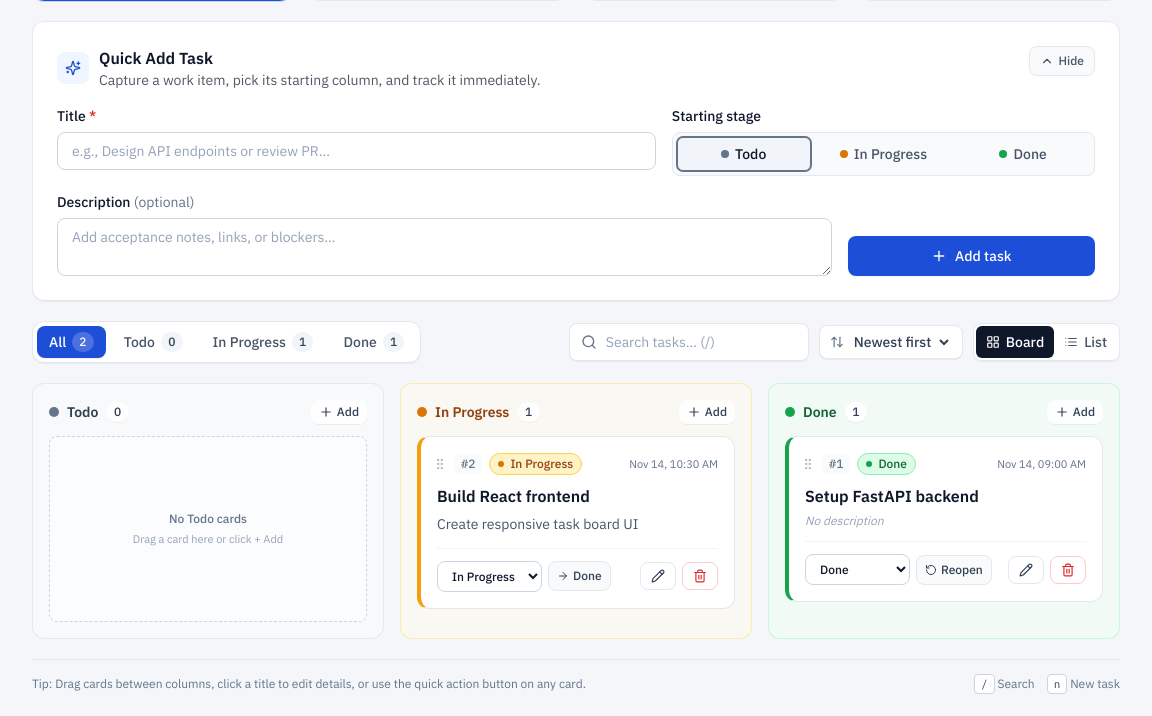
it: Project Tracker App › supports filtering by status, quick status change, and editing via modal (US-03)
This screenshot has width=1152, height=716.
(page scrolled)
Check: the button "Build React frontend" is shown, box [437,485,590,507]
Quick status update
Select "Done" in the dropdown named "Status for Build React frontend" at (490, 576), box [437,561,542,592]
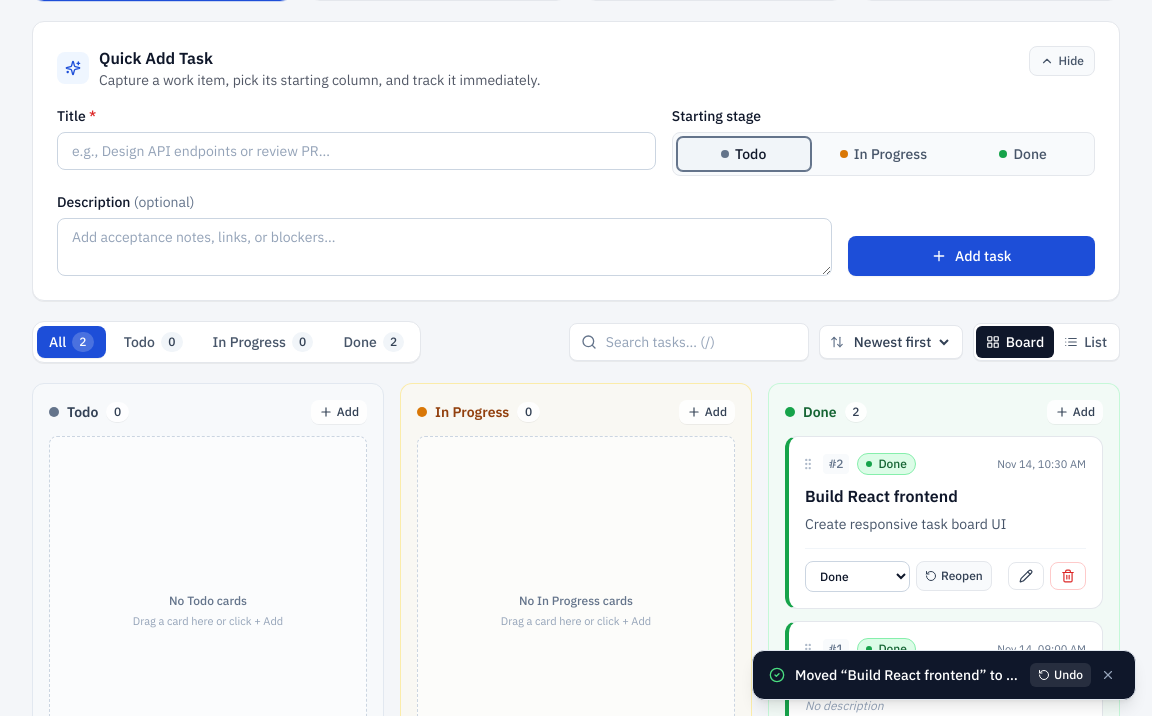
Open Edit modal
Click the button named "Edit Build React frontend" at (1026, 576), box [1008,562,1044,590]
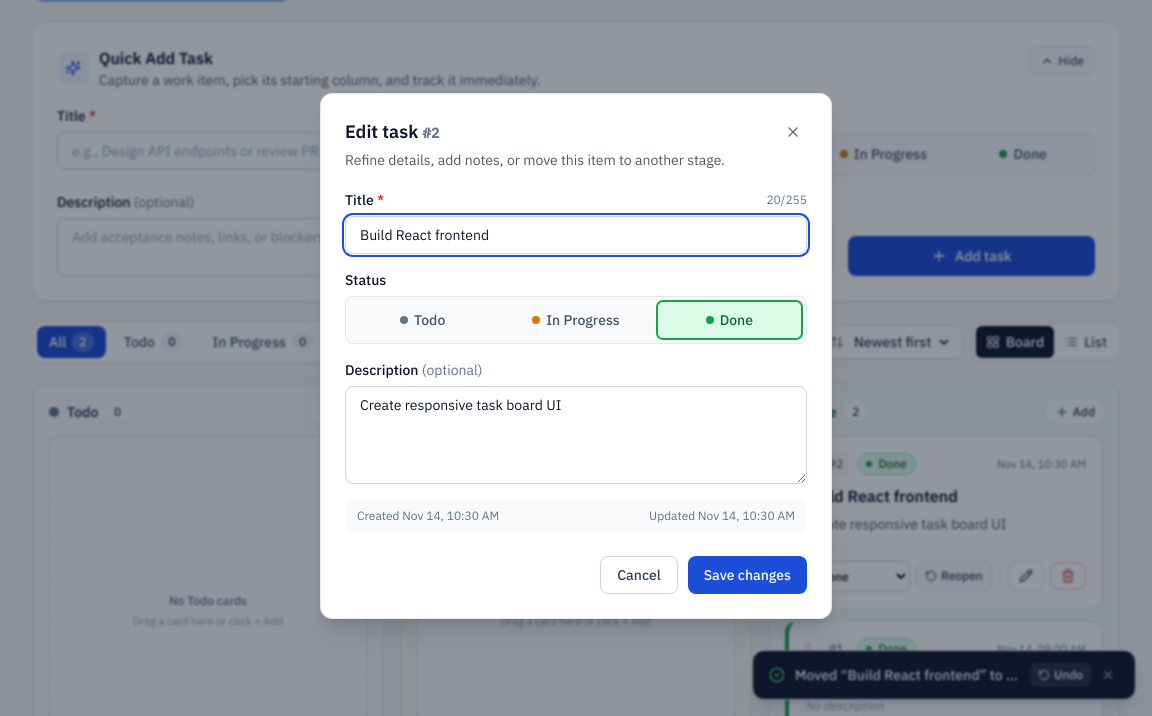
Replace the text in the field labelled "Title *" with "Build React & Tailwind UI" at (576, 235), box [345,216,807,254]
Replace the text in the text box labelled "Description (optional)" with "Updated description" at (576, 435), box [345,386,807,484]
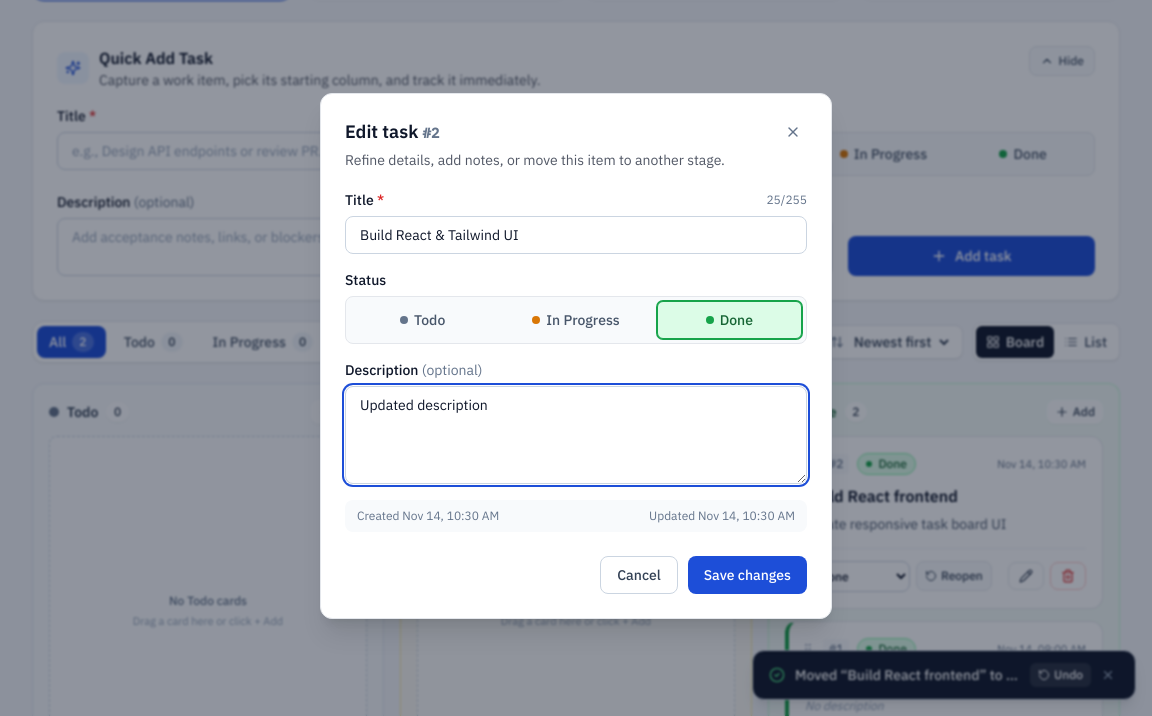
Click the button "Save changes" at (747, 575), box [688,556,807,594]
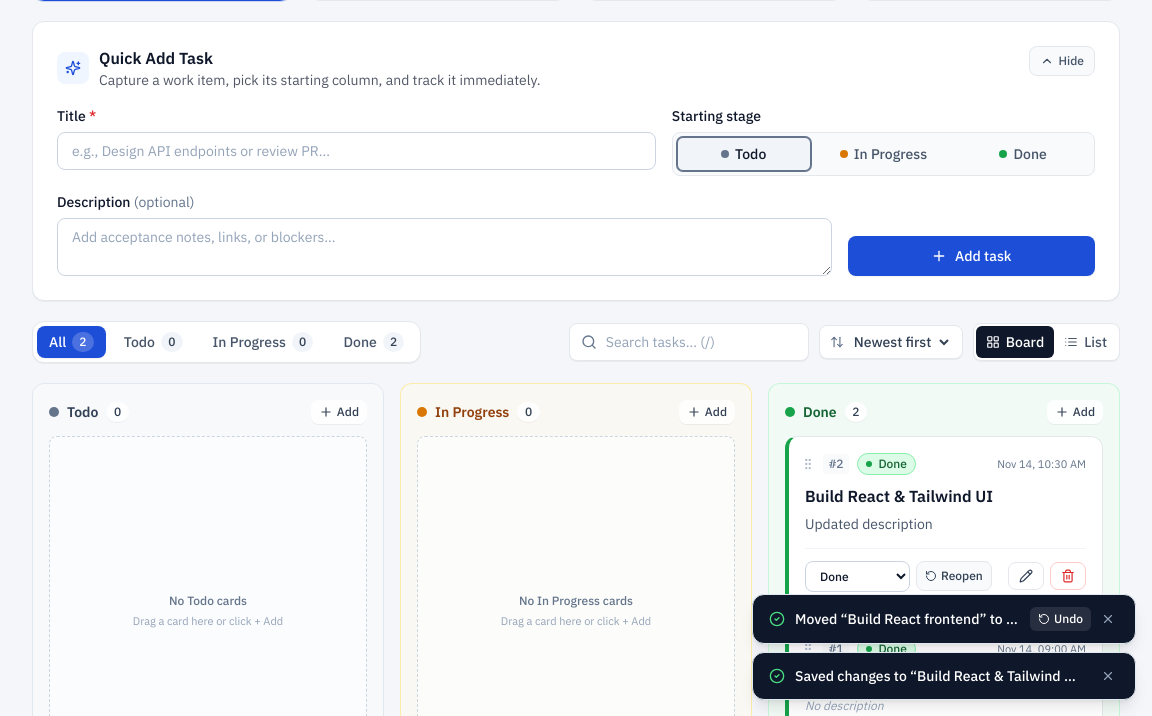
Check: the button "Build React & Tailwind UI" is shown, box [805,485,993,507]
Filter tabs
Click the tab "Todo 0" at (153, 342), box [112,326,194,358]
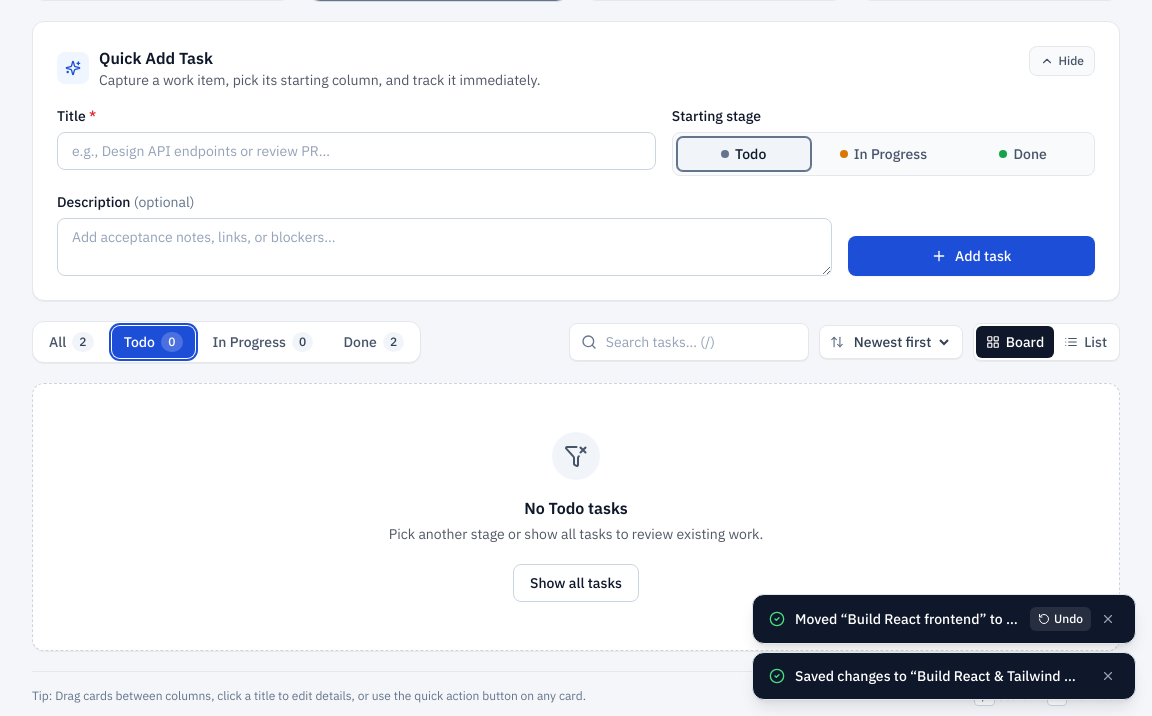
Check: the heading "No Todo tasks" is shown, box [524,498,628,518]
Click the button "Show all tasks" at (576, 583), box [513,564,639,602]
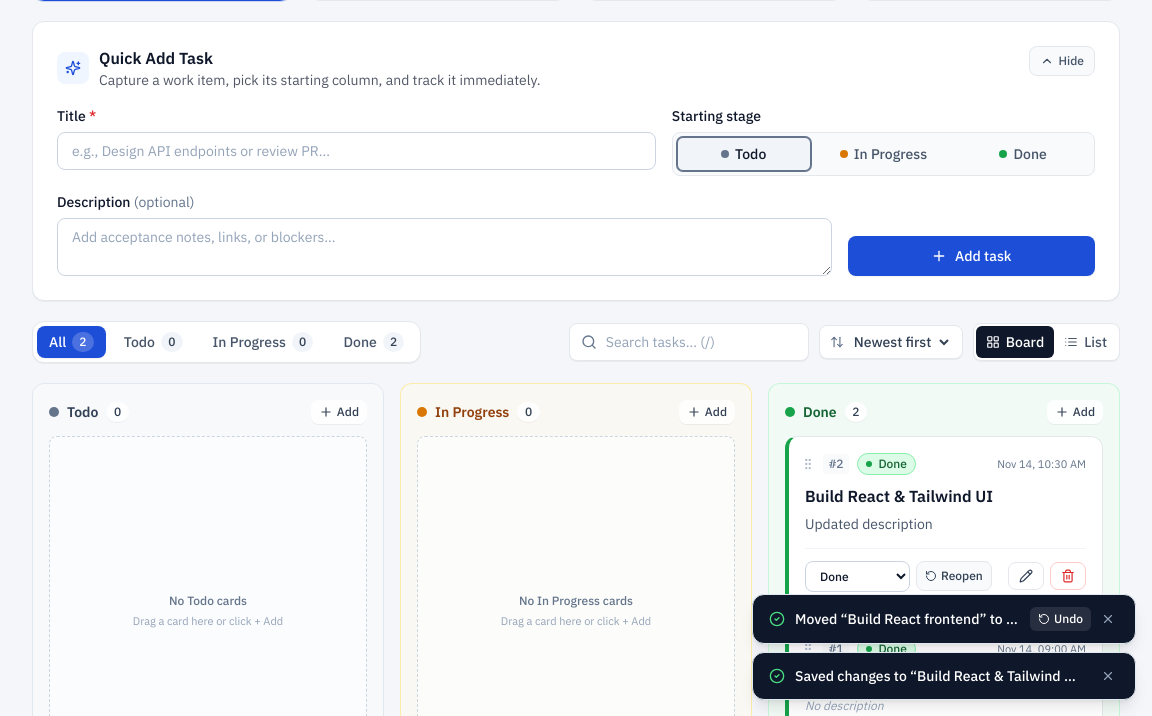
Check: the button "Build React & Tailwind UI" is shown, box [805,485,993,507]
